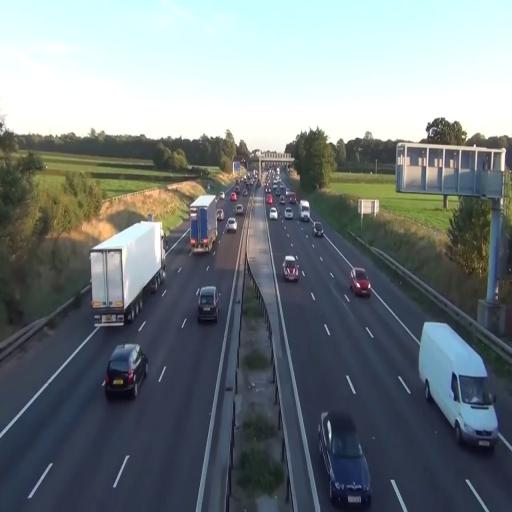vehicle: (418, 320, 498, 450), (90, 219, 167, 326), (318, 410, 372, 509), (318, 410, 372, 507), (104, 344, 148, 400), (189, 194, 219, 256), (196, 284, 220, 324), (349, 267, 371, 297), (282, 254, 300, 282), (300, 200, 310, 220), (226, 216, 237, 234), (268, 206, 279, 221), (312, 222, 322, 237)
